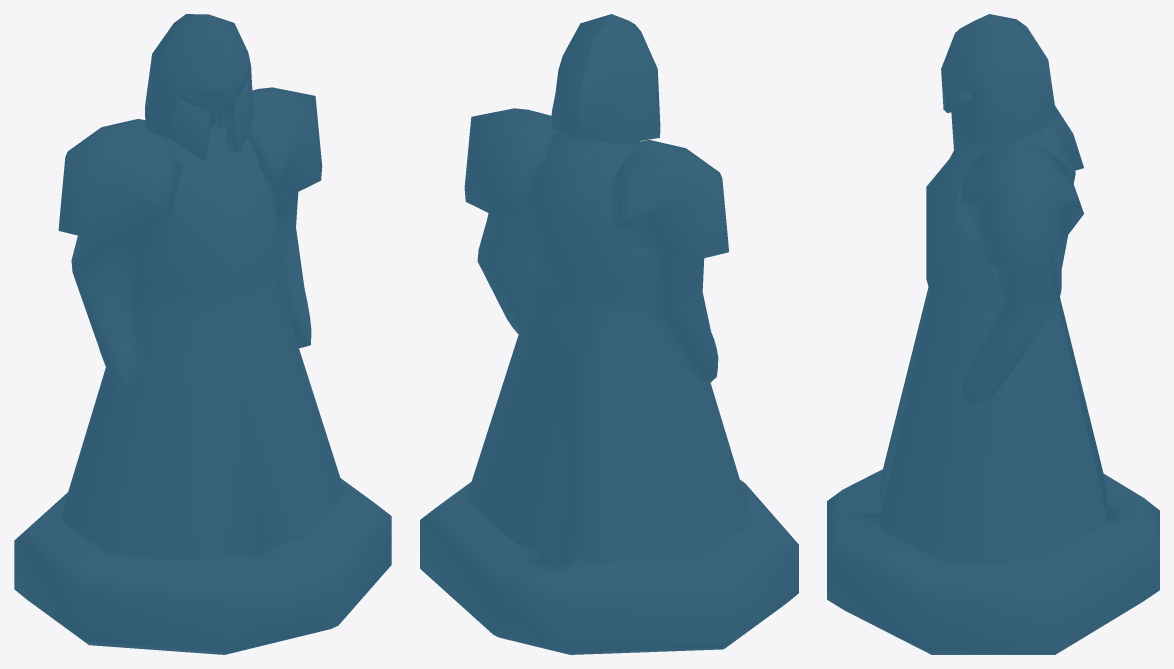
File: hero_marker_v2.glb
3 views of the same model, side by side, from view 1: azimuth 30°, elevation 25°; view 2: azimuth 150°, elevation 25°; view 3: azimuth 270°, elevation 25° (orthographic).
Parts seen in each view (by area): view 1: hero.emission.001; view 2: hero.emission.001; view 3: hero.emission.001.
Part boxes in pixels (bbox=[...]): hero.emission.001: bbox=[14, 14, 391, 654]; hero.emission.001: bbox=[420, 14, 798, 654]; hero.emission.001: bbox=[827, 14, 1159, 654].
Size of the model in its own units: 1.01 by 1.8 by 0.9516.
